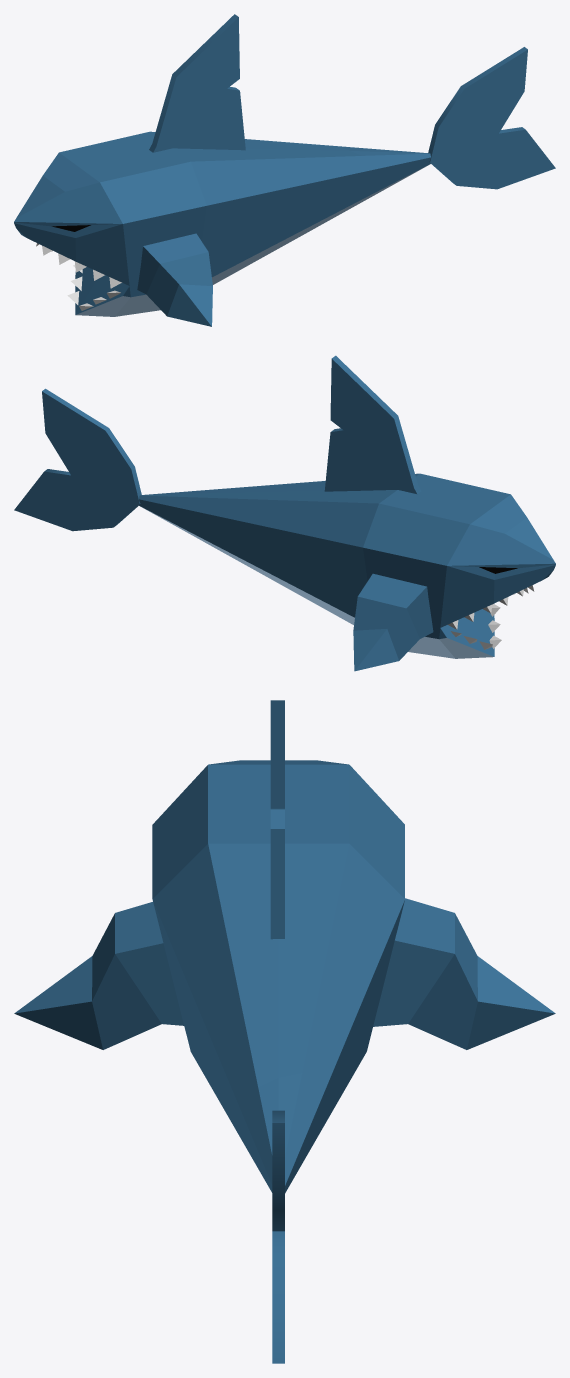
File: Ab_Shark_A.FBX
3 views of the same model, one above another, from view 1: azimuth 30°, elevation 25°; view 2: azimuth 150°, elevation 25°; view 3: azimuth 270°, elevation 25° (orthographic). The views are drawn at different scales.
Visible parts, largest first — view 1: Object001, Tail, Line001, Left; view 2: Object001, Tail, Line001, Right; view 3: Object001, Right, Left, Line001, Tail.
Boxes of the visible parts, <box> form: Object001: <box>14,131,430,316</box>; Tail: <box>428,47,555,189</box>; Line001: <box>149,14,245,152</box>; Left: <box>137,233,212,326</box>; Object001: <box>139,473,555,658</box>; Tail: <box>14,388,141,531</box>; Line001: <box>324,355,421,494</box>; Right: <box>353,573,433,671</box>; Object001: <box>152,760,404,1193</box>; Right: <box>373,898,555,1049</box>; Left: <box>14,902,183,1049</box>; Line001: <box>270,700,284,939</box>; Tail: <box>272,1110,284,1363</box>.
Bounding box in the file's own units: 222 × 109 × 112.
